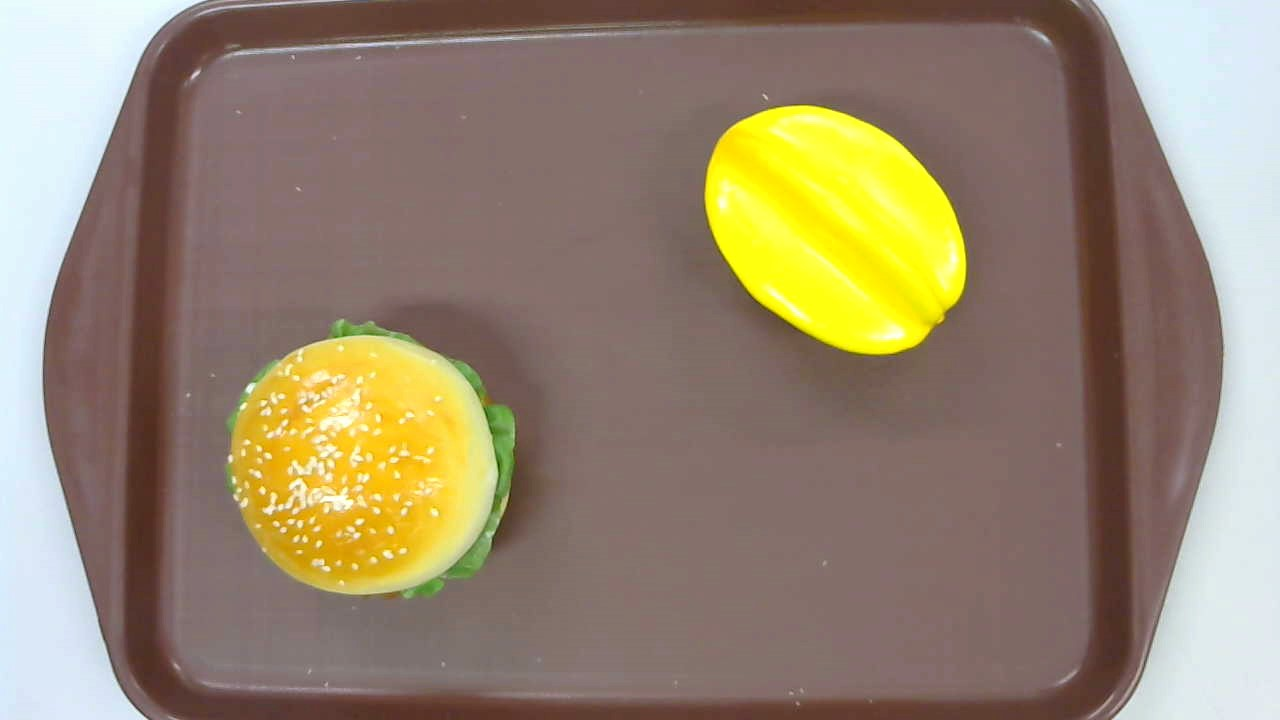hamburger: (224, 318, 516, 597)
star fruit: (705, 105, 965, 354)
